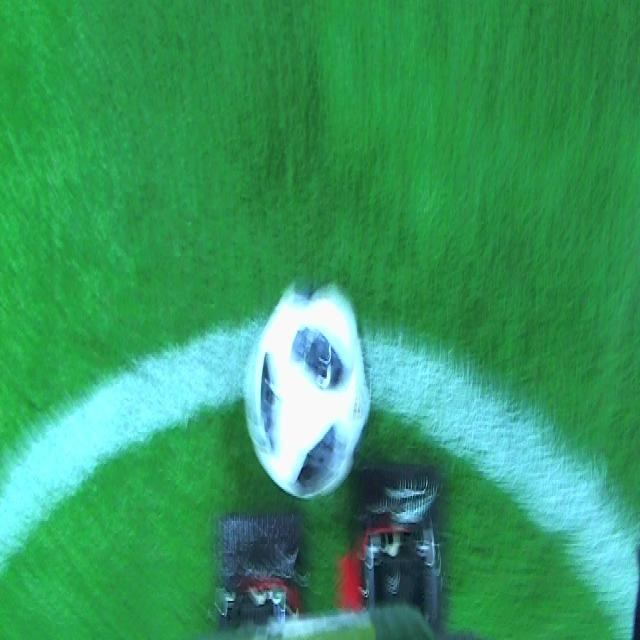ball: (245, 281, 374, 501)
